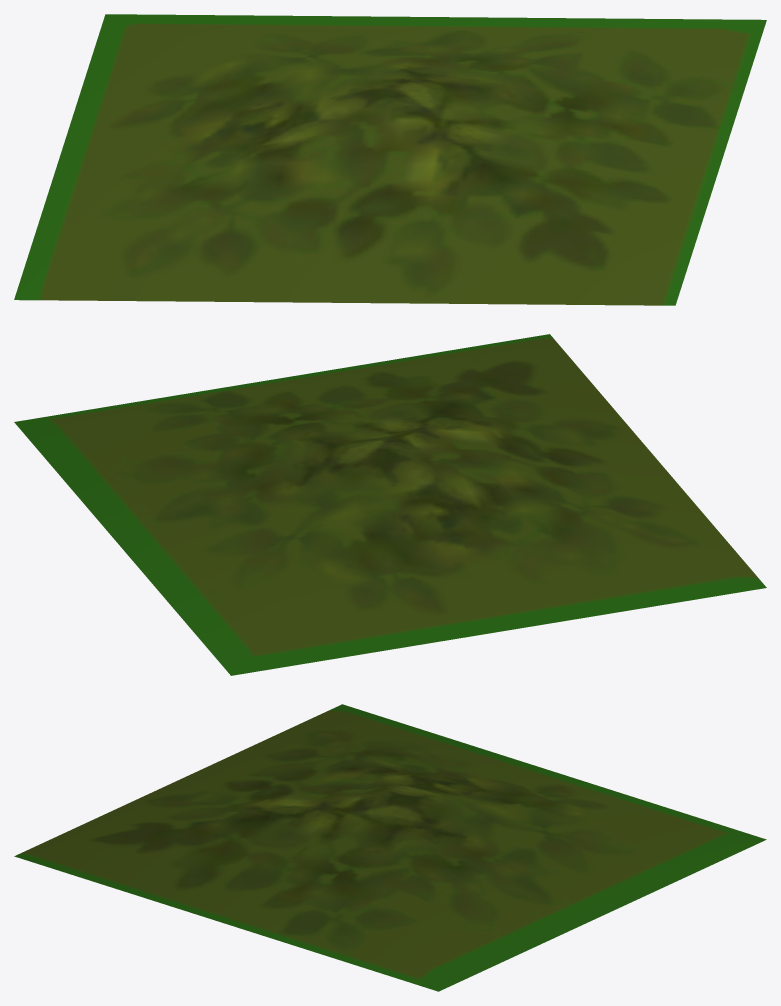
File: FB_1_guanmu03.FBX
3 renders of one model, top to bottom at view 1: azimuth 30°, elevation 25°; view 2: azimuth 150°, elevation 25°; view 3: azimuth 270°, elevation 25°, orthographic. The views are drawn at different scales.
Visible parts, largest first — view 1: FB_1_guanmu03_001; view 2: FB_1_guanmu03_001; view 3: FB_1_guanmu03_001.
Boxes of the visible parts, x1=… form: FB_1_guanmu03_001: x1=14, y1=14, x2=766, y2=305; FB_1_guanmu03_001: x1=14, y1=334, x2=766, y2=675; FB_1_guanmu03_001: x1=14, y1=704, x2=766, y2=991.
Bounding box in the file's own units: 353 × 34.1 × 353.
